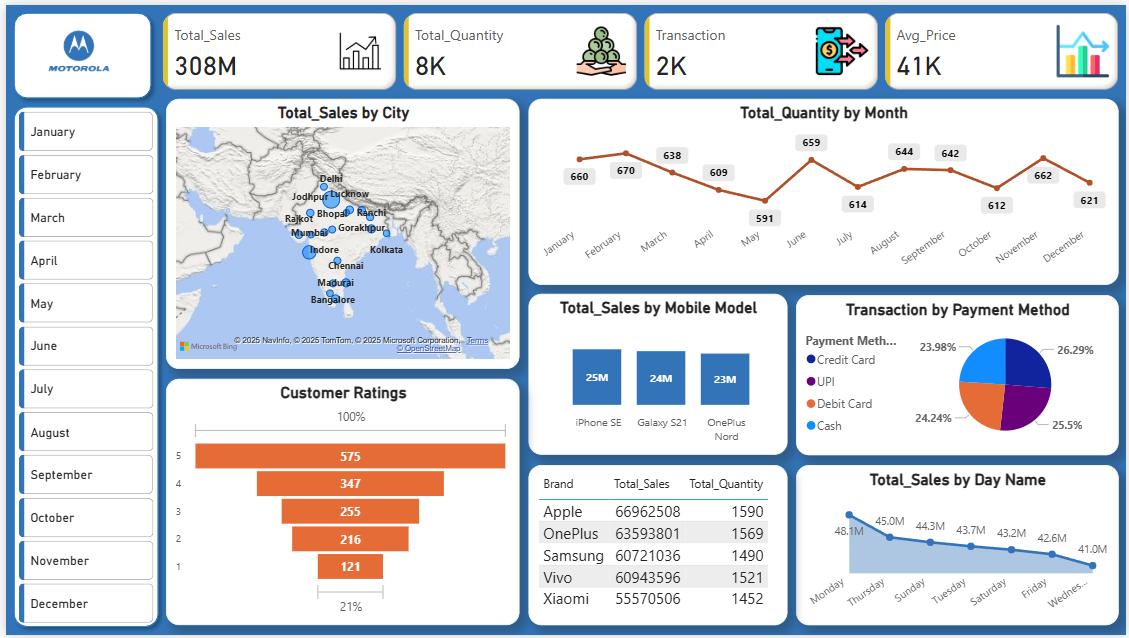

The page's visual inventory and layout, read from the dashboard file:
{"tool":"powerbi","page":{"name":"Page 1","canvas":[1280,720],"ordinal":0},"visuals":[{"type":"shape","box":[0,0,175,115.6],"z":0,"group":"g2"},{"type":"cardVisual","fields":{"Data":["sales_data.Total_Sales","sales_data.Total_Quantity","sales_data.Transaction","sales_data.Avg_Price"]},"box":[175,4.4,1105,98.1],"z":0},{"type":"image","box":[0,4.3,165.7,102.9],"z":1000,"group":"g2"},{"type":"map","fields":{"Category":["sales_data.City"],"Size":["sales_data.Total_Sales"]},"box":[182.9,107.1,404.3,308.6],"z":1000},{"type":"group","id":"g1","title":"Group 1","box":[0,106.9,183.1,612.5],"z":2000},{"type":"shape","box":[0,106.9,183.1,612.5],"z":2000,"group":"g1"},{"type":"group","id":"g2","title":"Group 2","box":[0,0,175,115.6],"z":3000},{"type":"advancedSlicerVisual","fields":{"Values":["sales_data.date.Variation.Date Hierarchy.Month"]},"box":[10,116.9,163.8,598.8],"z":3000,"group":"g1"},{"type":"lineChart","fields":{"Category":["sales_data.date.Variation.Date Hierarchy.Month","sales_data.date.Variation.Date Hierarchy.Day"],"Y":["sales_data.Total_Quantity"]},"box":[597.1,107.1,674.3,212.9],"z":4000},{"type":"clusteredColumnChart","fields":{"Category":["sales_data.Mobile Model"],"Y":["sales_data.Total_Sales"]},"box":[597.1,330,295.7,184.3],"z":5000},{"type":"pieChart","fields":{"Category":["sales_data.Payment Method"],"Y":["sales_data.Transaction"]},"box":[902.9,331.4,368.6,182.9],"z":5002},{"type":"funnel","title":"Customer Ratings","fields":{"Y":["CountNonNull(sales_data.Customer Ratings)"],"Category":["sales_data.Customer Ratings"]},"box":[182.9,427.1,404.3,281.4],"z":5003},{"type":"areaChart","fields":{"Category":["sales_data.Day Name"],"Y":["sales_data.Total_Sales"]},"box":[902.9,525.7,368.6,182.9],"z":5004},{"type":"tableEx","fields":{"Values":["sales_data.Brand","sales_data.Total_Sales","sales_data.Total_Quantity"]},"box":[597.1,525.7,295.7,182.9],"z":5005}]}

Visuals, with their boxes in screenshot pixels (x1, y1, x2, y2), scaled from the page's 1280x720 canvas onto the 1129x638 screenshot:
shape: 0,0,154,102
cardVisual - sales_data.Total_Sales x sales_data.Total_Quantity: 154,4,1128,91
image: 0,4,146,95
map - sales_data.City x sales_data.Total_Sales: 161,95,518,368
"Group 1" group: 0,95,161,637
shape: 0,95,161,637
"Group 2" group: 0,0,154,102
advancedSlicerVisual - sales_data.date.Variation.Date Hierarchy.Month: 9,104,153,634
lineChart - sales_data.date.Variation.Date Hierarchy.Month x sales_data.date.Variation.Date Hierarchy.Day: 527,95,1121,284
clusteredColumnChart - sales_data.Mobile Model x sales_data.Total_Sales: 527,292,787,456
pieChart - sales_data.Payment Method x sales_data.Transaction: 796,294,1122,456
"Customer Ratings" funnel: 161,378,518,628
areaChart - sales_data.Day Name x sales_data.Total_Sales: 796,466,1122,628
tableEx - sales_data.Brand x sales_data.Total_Sales: 527,466,787,628
